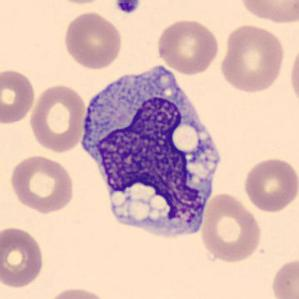Monocyte: (77, 55, 229, 246)
Platelets: (114, 0, 141, 15)
RBC: (218, 21, 286, 95), (198, 191, 264, 264), (27, 82, 87, 154), (7, 153, 76, 214), (61, 9, 124, 71), (155, 17, 221, 76), (242, 156, 298, 214), (0, 224, 47, 290), (0, 65, 36, 126), (237, 0, 298, 25), (268, 256, 298, 299), (43, 285, 111, 299), (287, 40, 299, 108), (48, 0, 110, 6)
